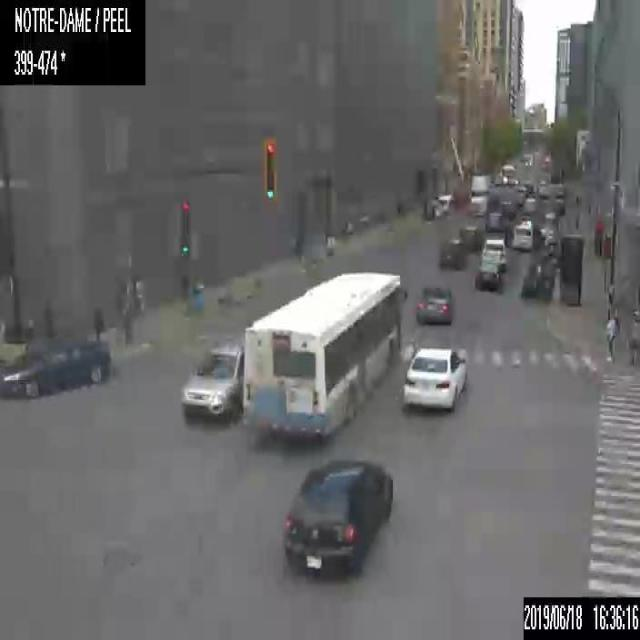bus: (241, 268, 408, 440), (500, 164, 515, 183)
pedestrian: (606, 309, 618, 363), (629, 308, 639, 361), (42, 295, 52, 337), (94, 297, 102, 332)
vehicle: (282, 456, 392, 576), (0, 331, 110, 397), (181, 344, 243, 426), (401, 341, 467, 411), (414, 281, 454, 324), (438, 238, 467, 270), (479, 237, 506, 270), (470, 173, 490, 216), (520, 276, 552, 300), (474, 263, 500, 291), (459, 225, 482, 252), (512, 221, 532, 250)
